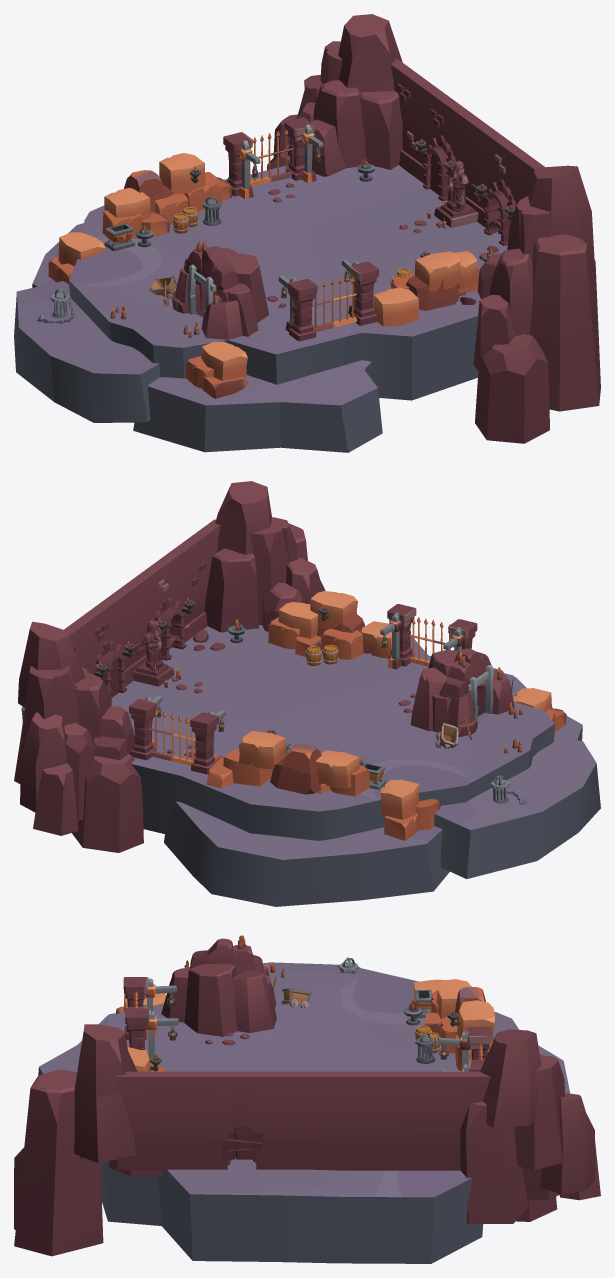
The model's file is Cave Fighting level (2).fbx.
The picture shows the model from 3 angles, top to bottom: view 1: azimuth 30°, elevation 25°; view 2: azimuth 150°, elevation 25°; view 3: azimuth 270°, elevation 25°; orthographic projection. The views are drawn at different scales.
Visible parts, largest first — view 1: Plane.009, Circle.007, Cube.048, Circle.026, Circle.178, Circle.019, Circle.179, Circle.180, Circle.024, Circle.021, Circle.022, Cube.040 (+35 smaller); view 2: Plane.009, Cube.048, Circle.025, Circle.018, Circle.019, Circle.118, Circle.151, Circle.178, Circle.022, Circle.169, Circle.027, Circle.119 (+32 smaller); view 3: Plane.009, Cube.048, Circle.007, Circle.019, Circle.180, Circle.178, Circle.151, Circle.118, Circle.034, Circle.033, Cube.021, Circle.030 (+15 smaller).
Part boxes in pixels (bbox=[...]): Plane.009: bbox=[14, 165, 507, 452]; Circle.007: bbox=[530, 234, 600, 411]; Cube.048: bbox=[390, 58, 544, 227]; Circle.026: bbox=[475, 334, 549, 443]; Circle.178: bbox=[338, 14, 402, 92]; Circle.019: bbox=[528, 165, 594, 258]; Circle.179: bbox=[313, 80, 365, 168]; Circle.180: bbox=[359, 91, 402, 169]; Circle.024: bbox=[489, 248, 533, 335]; Circle.021: bbox=[473, 295, 514, 373]; Circle.022: bbox=[507, 196, 551, 262]; Cube.040: bbox=[373, 287, 419, 326]; Plane.009: bbox=[21, 625, 600, 906]; Cube.048: bbox=[64, 519, 220, 686]; Circle.025: bbox=[72, 753, 143, 852]; Circle.018: bbox=[204, 548, 258, 632]; Circle.019: bbox=[215, 481, 271, 554]; Circle.118: bbox=[20, 712, 67, 812]; Circle.151: bbox=[19, 666, 78, 761]; Circle.178: bbox=[18, 621, 85, 707]; Circle.022: bbox=[249, 517, 297, 624]; Circle.169: bbox=[33, 763, 78, 835]; Circle.027: bbox=[270, 743, 321, 794]; Circle.119: bbox=[64, 722, 94, 820]; Plane.009: bbox=[38, 962, 570, 1263]; Cube.048: bbox=[117, 1071, 490, 1170]; Circle.007: bbox=[14, 1069, 103, 1256]; Circle.019: bbox=[74, 1024, 137, 1163]; Circle.180: bbox=[460, 1101, 528, 1224]; Circle.178: bbox=[480, 1029, 541, 1128]; Circle.151: bbox=[514, 1054, 565, 1169]; Circle.118: bbox=[540, 1093, 595, 1194]; Circle.034: bbox=[184, 963, 237, 1036]; Circle.033: bbox=[233, 970, 276, 1032]; Cube.021: bbox=[456, 1000, 494, 1041]; Circle.030: bbox=[161, 967, 189, 1022].
Bounding box in the file's own units: 10.85 × 4.7 × 10.53.
